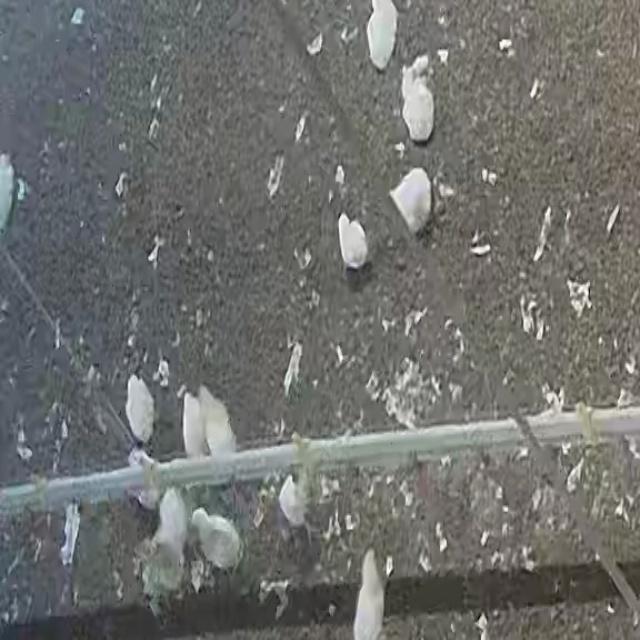chicken: (145, 487, 189, 591), (398, 56, 435, 144), (190, 507, 241, 570), (196, 384, 238, 458), (352, 549, 386, 640), (389, 168, 432, 235), (333, 210, 372, 272), (366, 0, 398, 70), (120, 376, 156, 438), (278, 473, 310, 528), (182, 392, 208, 459)
